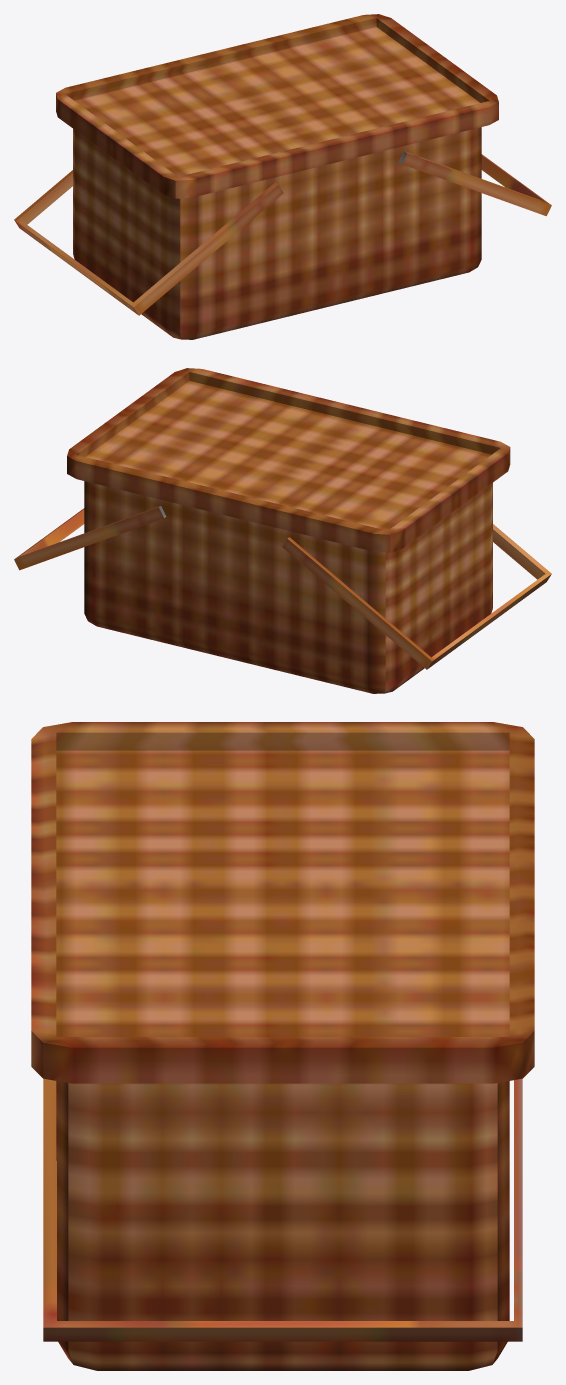
Rendered from FoodBasket.fbx.
3 views of the same model, one above another, from view 1: azimuth 30°, elevation 25°; view 2: azimuth 150°, elevation 25°; view 3: azimuth 270°, elevation 25° (orthographic). The views are drawn at different scales.
Parts seen in each view (by area): view 1: picnicBasket; view 2: picnicBasket; view 3: picnicBasket.
Boxes of the visible parts, left/top/right/bottom form: picnicBasket: left=14, top=14, right=551, bottom=339; picnicBasket: left=14, top=368, right=551, bottom=693; picnicBasket: left=31, top=722, right=534, bottom=1370.
Bounding box in the file's own units: 186 × 73.95 × 97.23.
